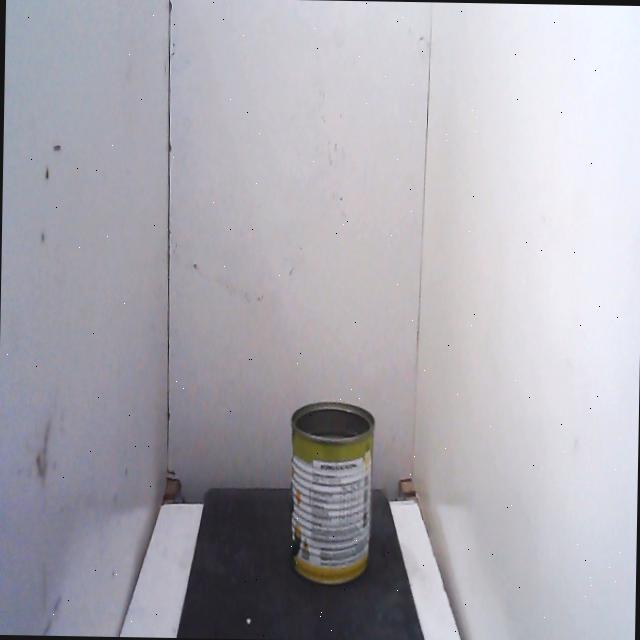metal: (275, 370, 391, 612)
